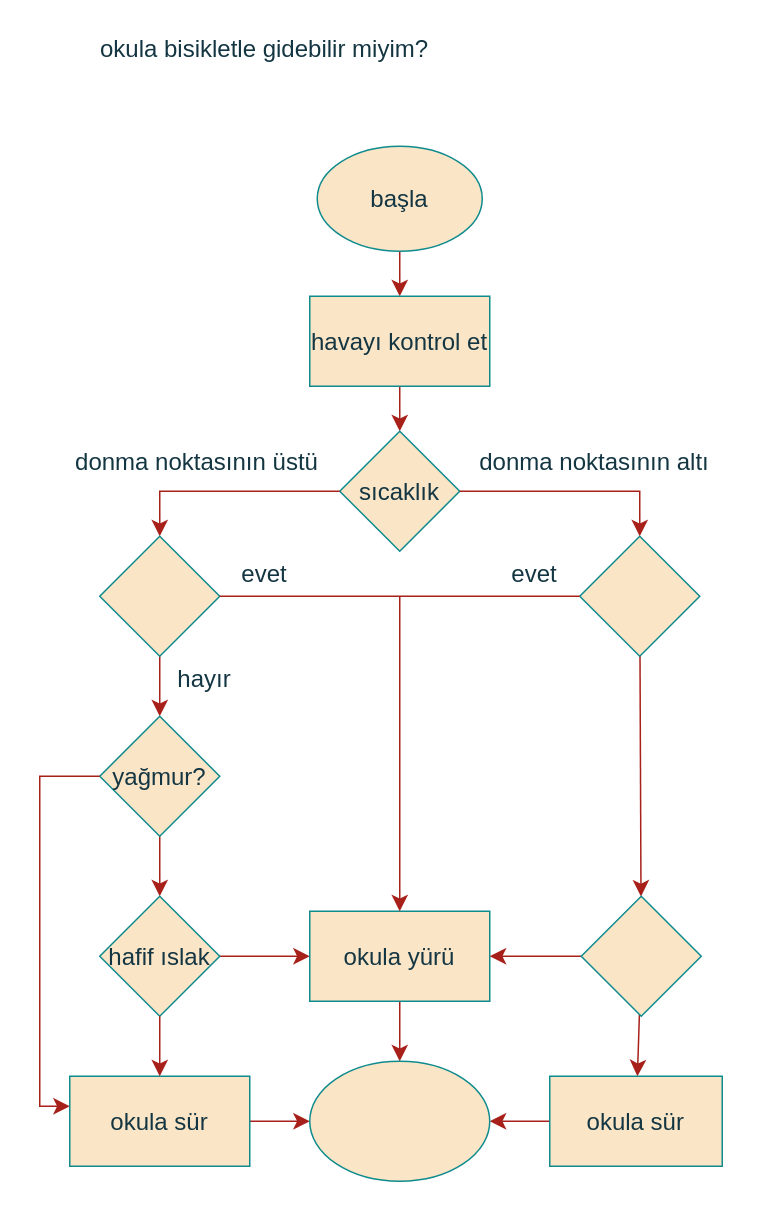
This 771x1208 diagram has some shape labels left out. Each missing label, with the box of its shape:
kar?: (578, 535, 700, 656)
son: (308, 1060, 490, 1181)
soğuk yol?: (580, 895, 701, 1016)
ıslak yol?: (98, 535, 220, 656)
